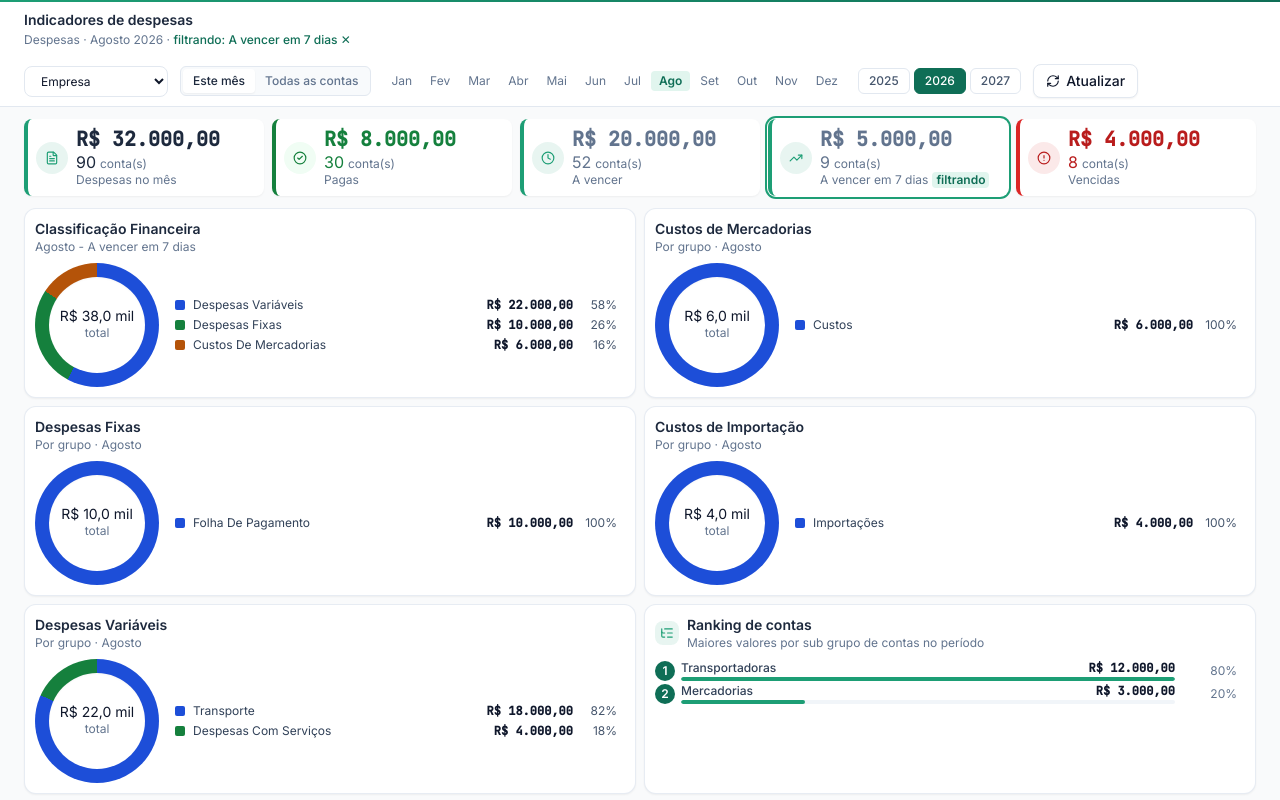
DashboardFinanceiro › clicar numa fatia da legenda de um donut abre o card de detalhe
The width and height of the screenshot is (1280, 800).
Expected: the heading "Despesas Variáveis" is shown, [35,616,167,633]
A fatia "Transporte" do donut de despesas variáveis é um botão da legenda.
Click the button "Transporte R$ 18.000,00 82%": (224, 710) [171,703,621,719]
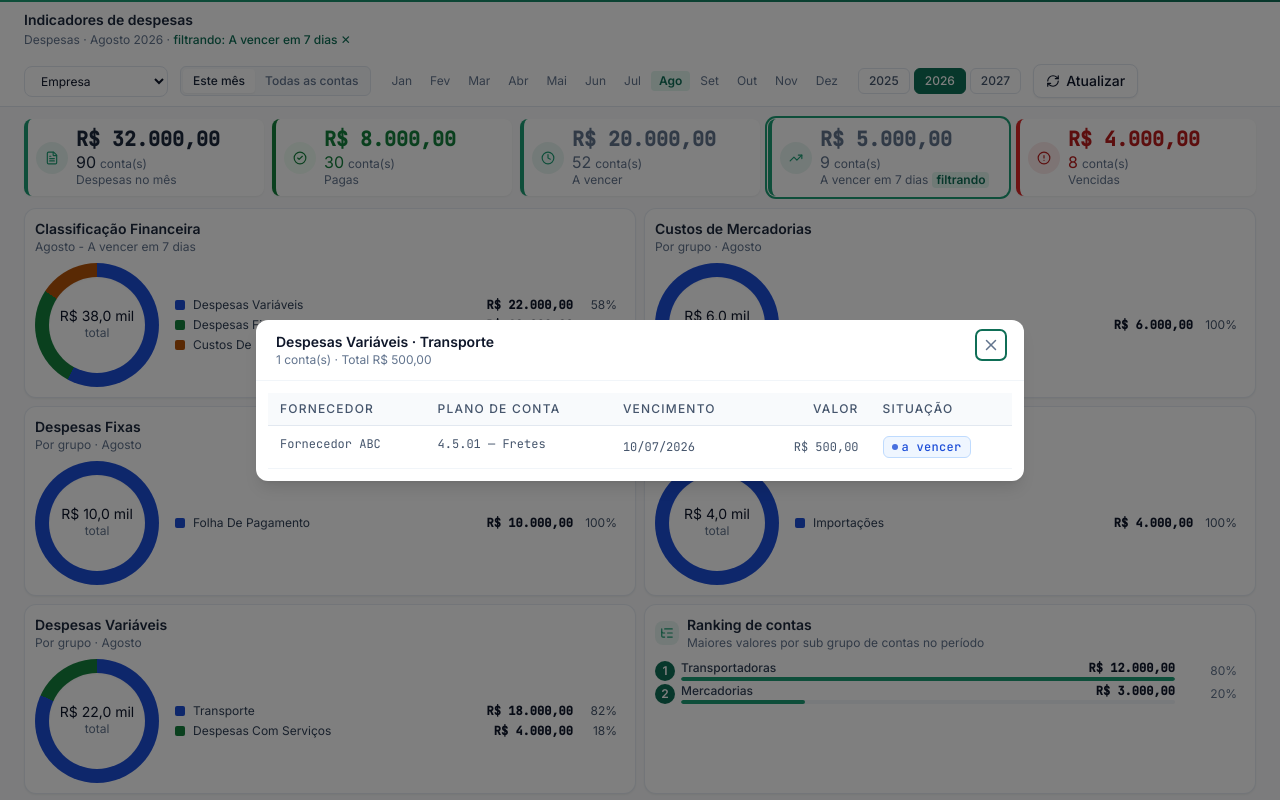
Expected: the heading "Despesas Variáveis · Transporte" is shown, [276,332,494,352]
